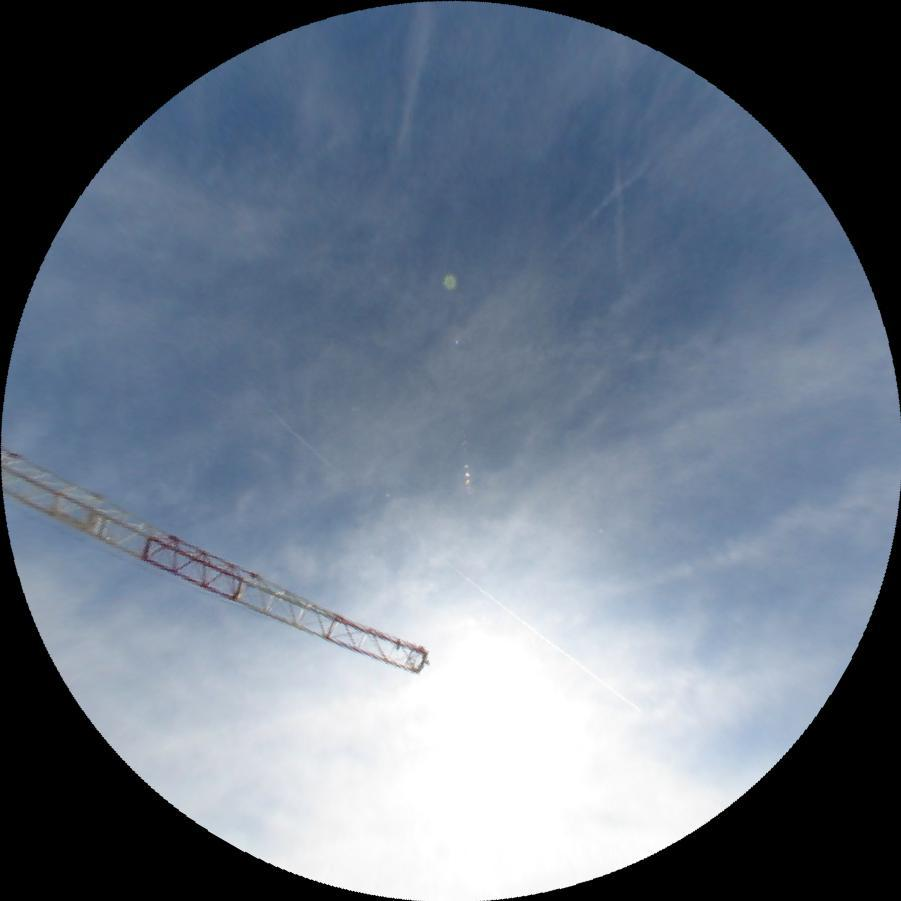contrail young: (442, 559, 641, 712)
